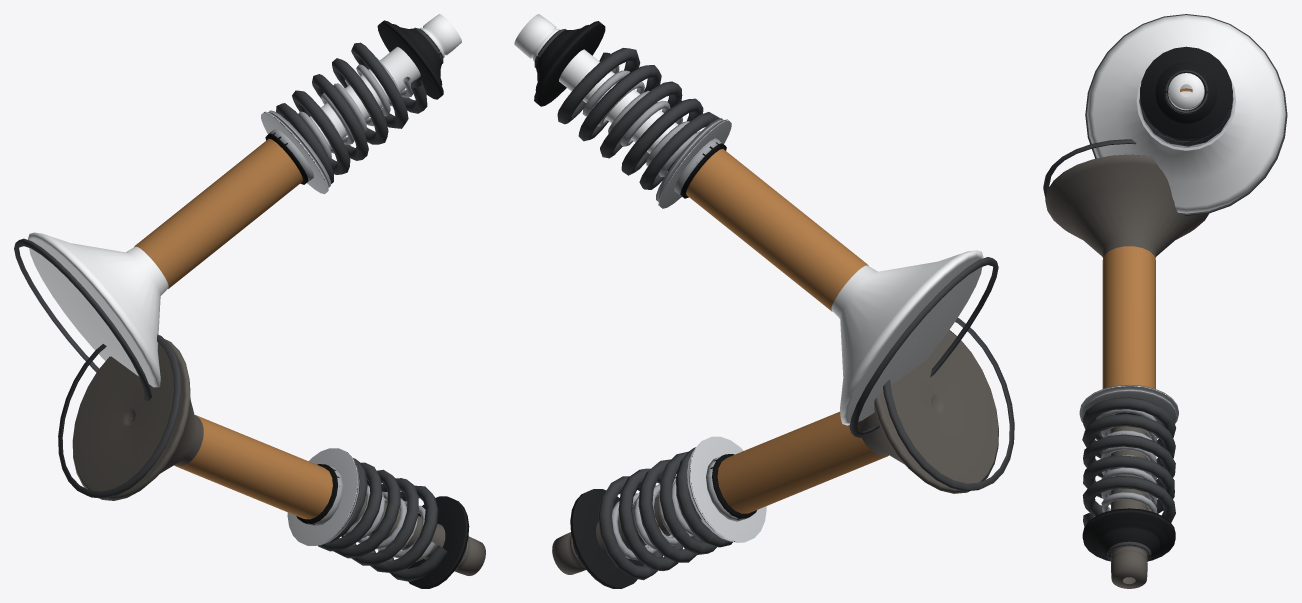
File: valve-set-4.glb
3 renders of one model, left to right at view 1: azimuth 30°, elevation 25°; view 2: azimuth 150°, elevation 25°; view 3: azimuth 270°, elevation 25°, orthographic. The views are drawn at different scales.
Visible parts, largest first — view 1: valve-set-4:darkSteel, valve-set-4:bronze, valve-set-4:heatSteel, valve-set-4:chrome, valve-set-4:steel, valve-set-4:satinBlack, valve-set-4:polishedSteel, valve-set-4:rubber; view 2: valve-set-4:darkSteel, valve-set-4:bronze, valve-set-4:chrome, valve-set-4:heatSteel, valve-set-4:steel, valve-set-4:satinBlack, valve-set-4:polishedSteel, valve-set-4:rubber; view 3: valve-set-4:chrome, valve-set-4:heatSteel, valve-set-4:darkSteel, valve-set-4:satinBlack, valve-set-4:bronze, valve-set-4:steel, valve-set-4:polishedSteel.
Part boxes in pixels (left/top/right/bottom): valve-set-4:darkSteel: left=14, top=27, right=466, bottom=581; valve-set-4:bronze: left=134, top=138, right=332, bottom=519; valve-set-4:heatSteel: left=72, top=339, right=485, bottom=575; valve-set-4:chrome: left=28, top=14, right=461, bottom=387; valve-set-4:steel: left=268, top=57, right=435, bottom=561; valve-set-4:satinBlack: left=377, top=20, right=469, bottom=588; valve-set-4:polishedSteel: left=261, top=111, right=358, bottom=545; valve-set-4:rubber: left=265, top=132, right=339, bottom=524; valve-set-4:darkSteel: left=534, top=29, right=1014, bottom=580; valve-set-4:bronze: left=686, top=149, right=888, bottom=513; valve-set-4:chrome: left=514, top=14, right=983, bottom=425; valve-set-4:heatSteel: left=552, top=330, right=998, bottom=574; valve-set-4:steel: left=582, top=65, right=749, bottom=560; valve-set-4:satinBlack: left=534, top=21, right=643, bottom=588; valve-set-4:polishedSteel: left=658, top=119, right=766, bottom=542; valve-set-4:rubber: left=667, top=141, right=756, bottom=519; valve-set-4:chrome: left=1087, top=15, right=1285, bottom=213; valve-set-4:heatSteel: left=1045, top=154, right=1208, bottom=588; valve-set-4:darkSteel: left=1043, top=14, right=1287, bottom=561; valve-set-4:satinBlack: left=1082, top=46, right=1232, bottom=561; valve-set-4:bronze: left=1102, top=88, right=1192, bottom=388; valve-set-4:steel: left=1082, top=95, right=1233, bottom=513; valve-set-4:polishedSteel: left=1079, top=76, right=1235, bottom=422.
Bounding box in the file's own units: 115 × 141 × 59.81.
